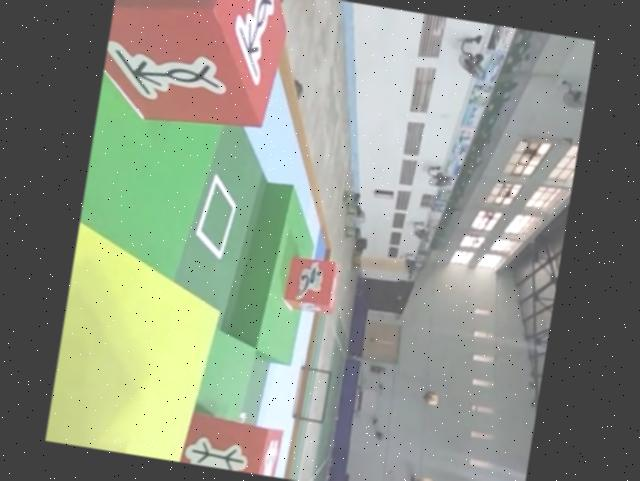R1: (283, 254, 342, 313)
R2 Real: (96, 0, 291, 137), (163, 410, 282, 477)
